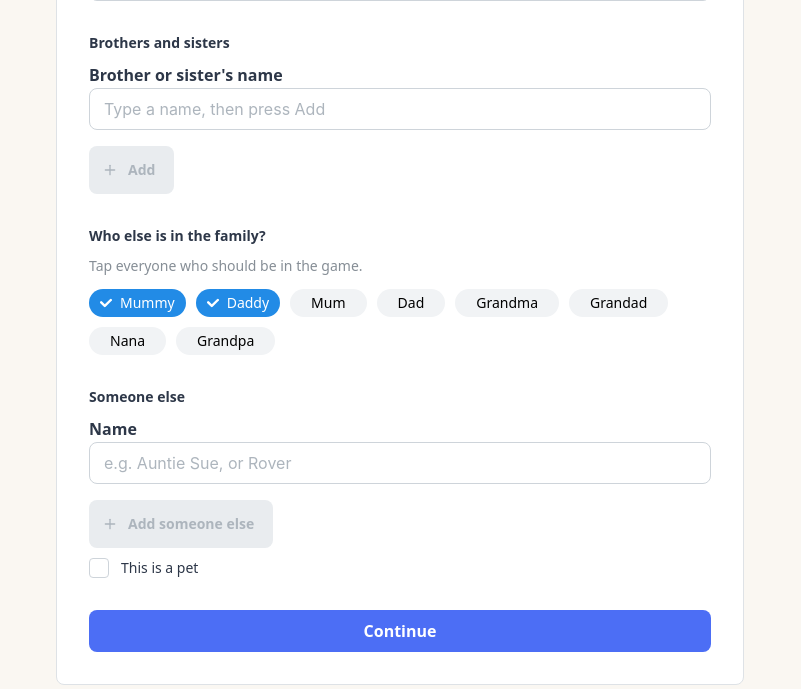
Test: Voice studio › recording › shows plain help when the microphone is denied, with a Try again button
(page scrolled)
Click the button "Continue": (400, 631) [89, 610, 711, 652]
(page scrolled)
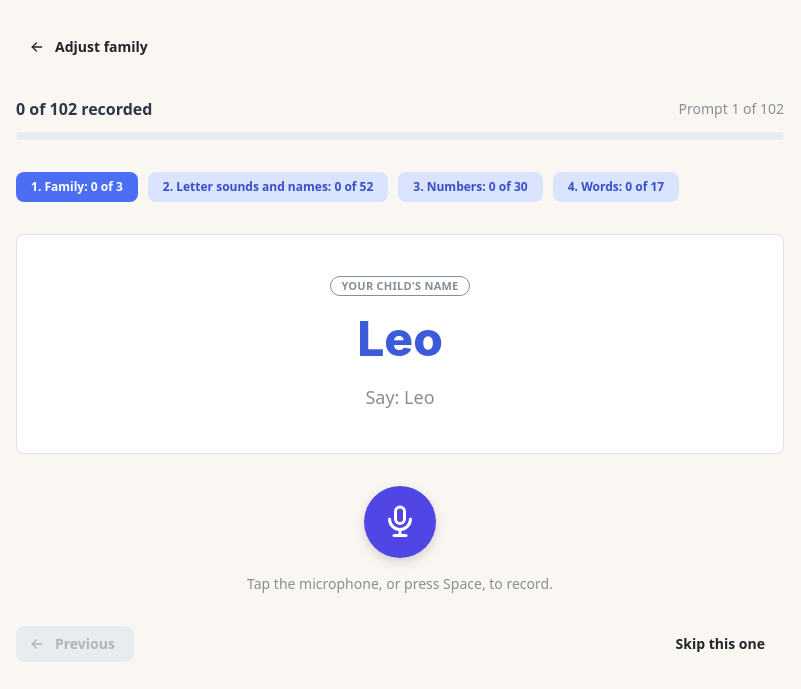
Expected: the element with test id "prompt-card" is shown, [16, 234, 784, 454]
Click the button named "Record": (400, 522) [364, 486, 436, 558]
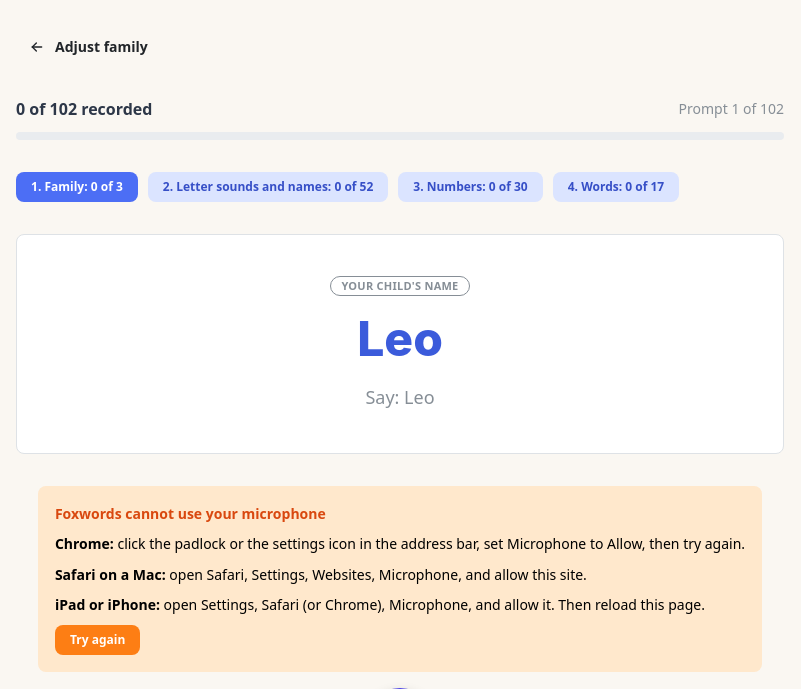
Expected: the message shows "Foxwords cannot use your microphone", [55, 504, 326, 523]
Expected: the message shows "Chrome", [55, 534, 114, 554]
Expected: the message shows "Safari", [55, 565, 166, 584]
